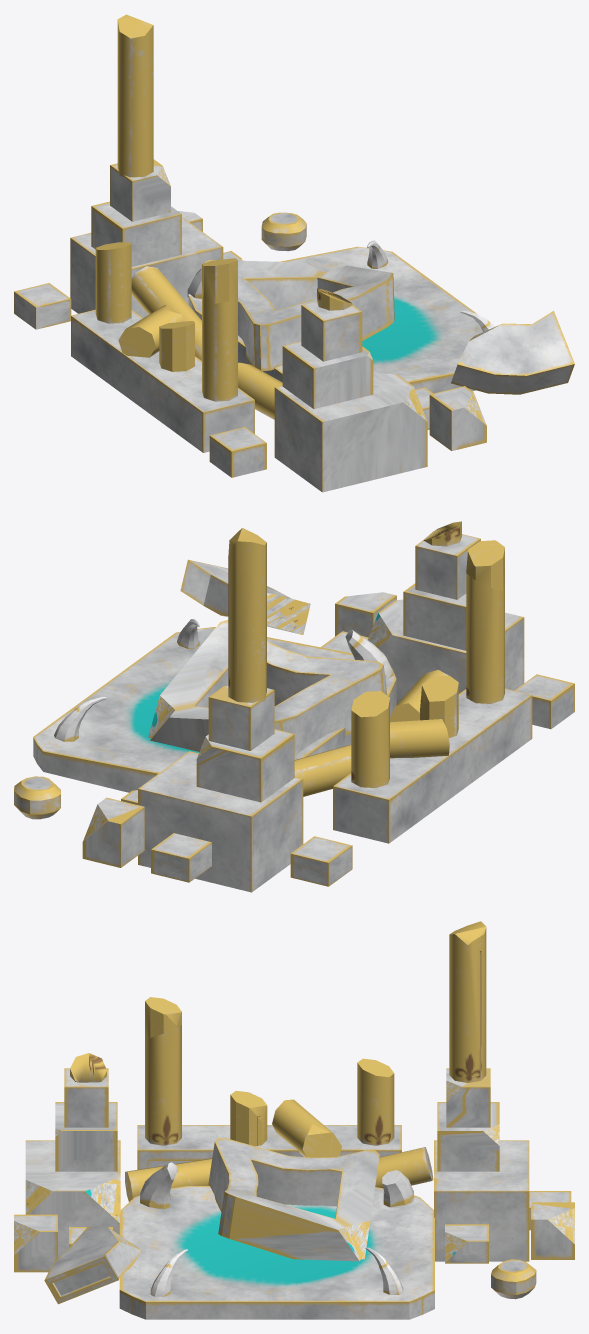
File: Trick_TheGateFinal02.fbx
3 views of the same model, one above another, from view 1: azimuth 30°, elevation 25°; view 2: azimuth 150°, elevation 25°; view 3: azimuth 270°, elevation 25° (orthographic). The views are drawn at different scales.
Visible parts, largest first — view 1: Trick_TheGateFinal02; view 2: Trick_TheGateFinal02; view 3: Trick_TheGateFinal02.
Boxes of the visible parts, x1=… form: Trick_TheGateFinal02: x1=14, y1=14, x2=574, y2=492; Trick_TheGateFinal02: x1=14, y1=521, x2=574, y2=892; Trick_TheGateFinal02: x1=14, y1=921, x2=574, y2=1319.
Bounding box in the file's own units: 64.03 × 54.12 × 91.54.
